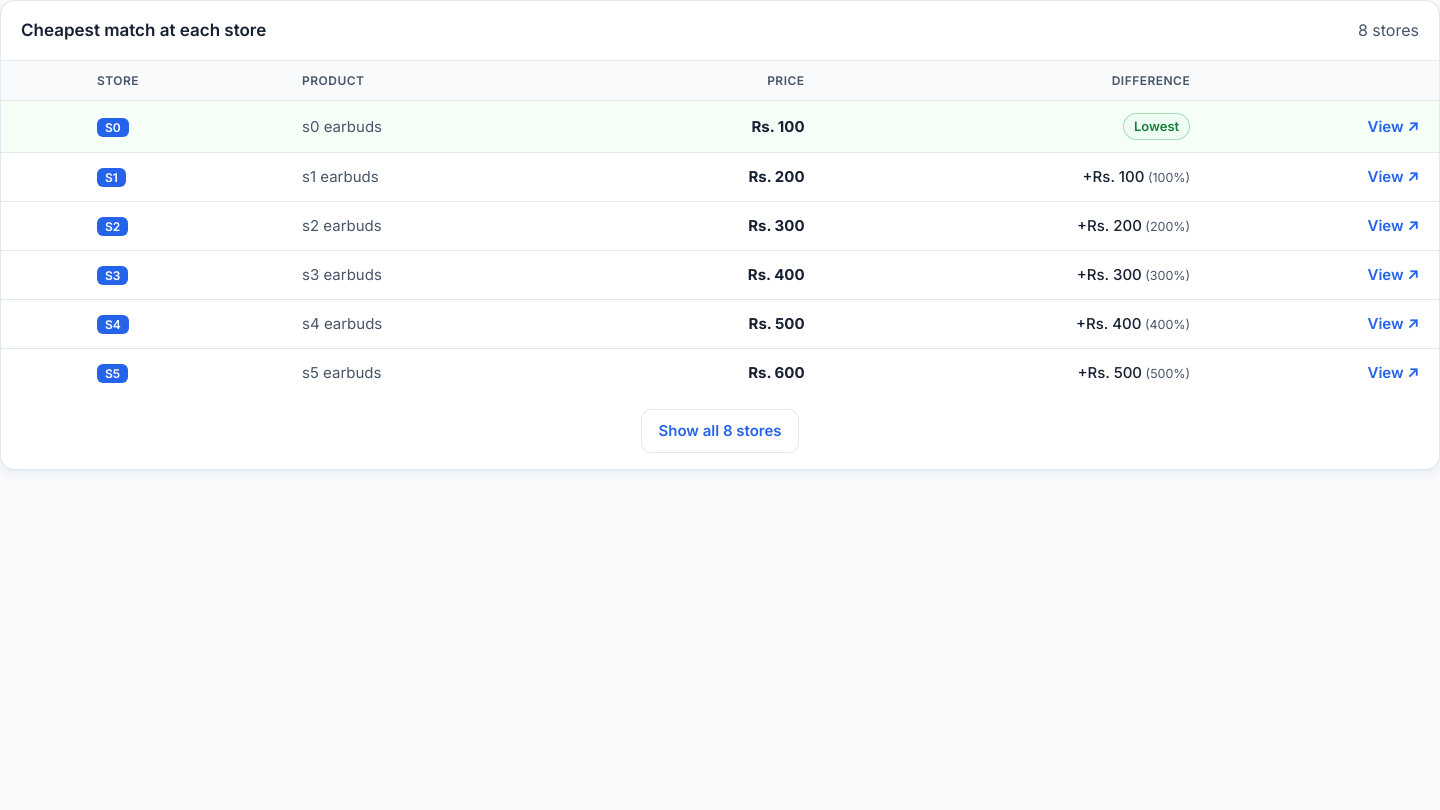
PriceSummary › collapses to 6 stores and expands on demand
Click the button "Show all 8 stores": (720, 431) [641, 409, 798, 453]
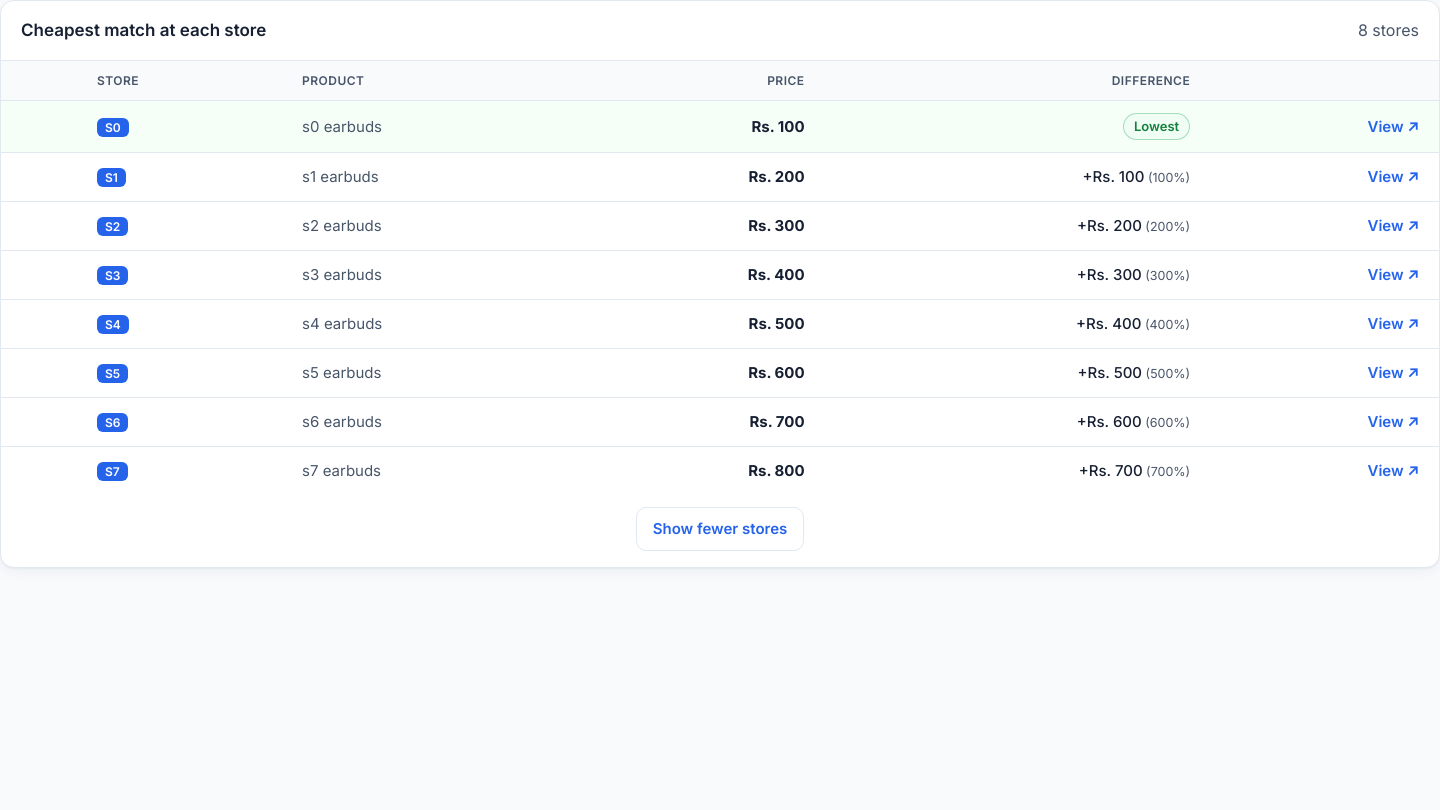
Expected: the number of rows is 9
Expected: the button "Show fewer stores" is shown, [636, 507, 804, 551]
